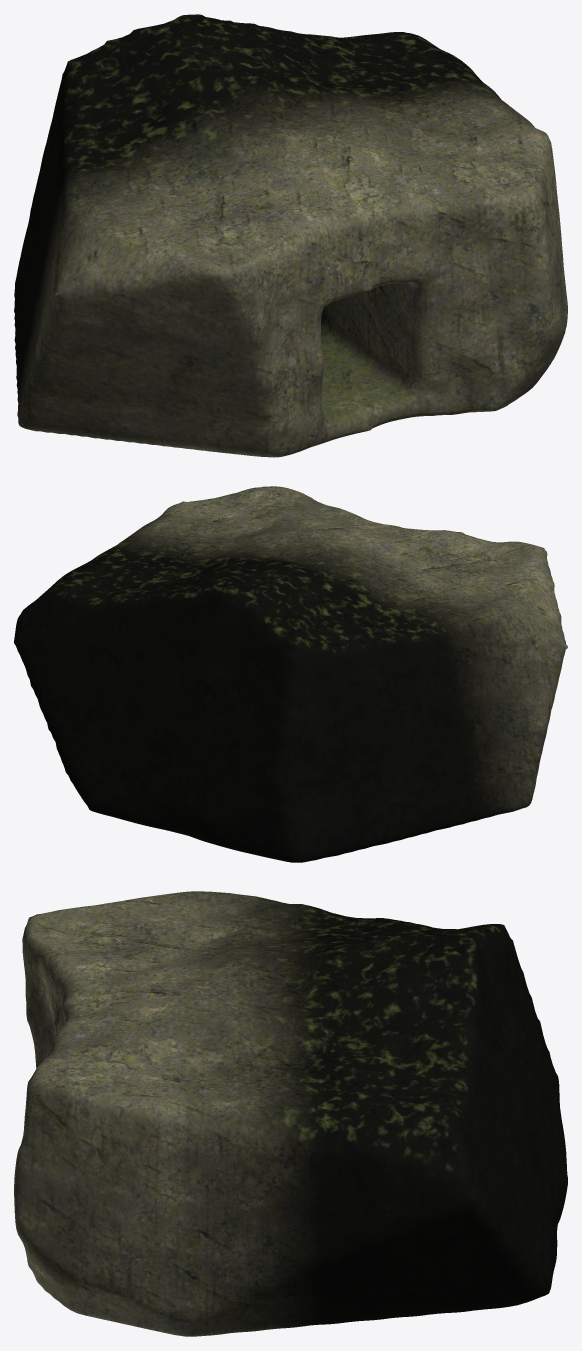
The model's file is minerock.glb.
3 renders of one model, top to bottom at view 1: azimuth 30°, elevation 25°; view 2: azimuth 150°, elevation 25°; view 3: azimuth 270°, elevation 25°, orthographic. The views are drawn at different scales.
Visible parts, largest first — view 1: minerock; view 2: minerock; view 3: minerock.
Part boxes in pixels (x1,y1,x2,y2): minerock: [14, 14, 567, 457]; minerock: [14, 486, 567, 862]; minerock: [14, 891, 567, 1336].
Bounding box in the file's own units: 18.14 × 9.16 × 15.66.
1 material, 1 textured.
